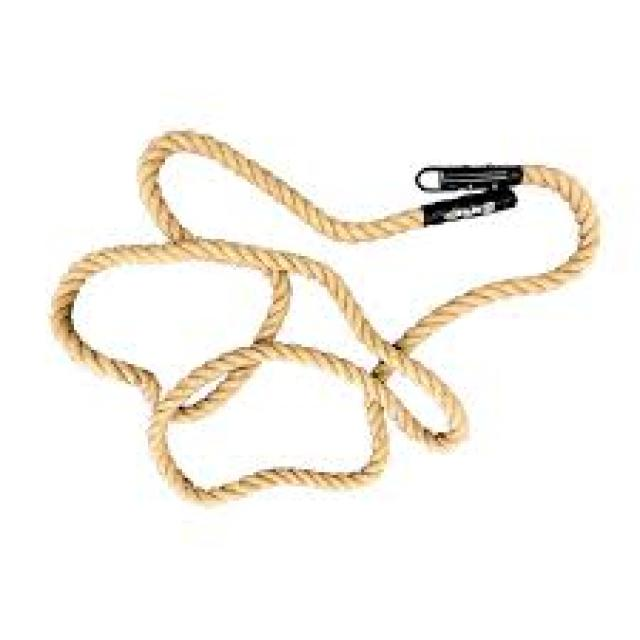rope: (51, 131, 599, 501)
